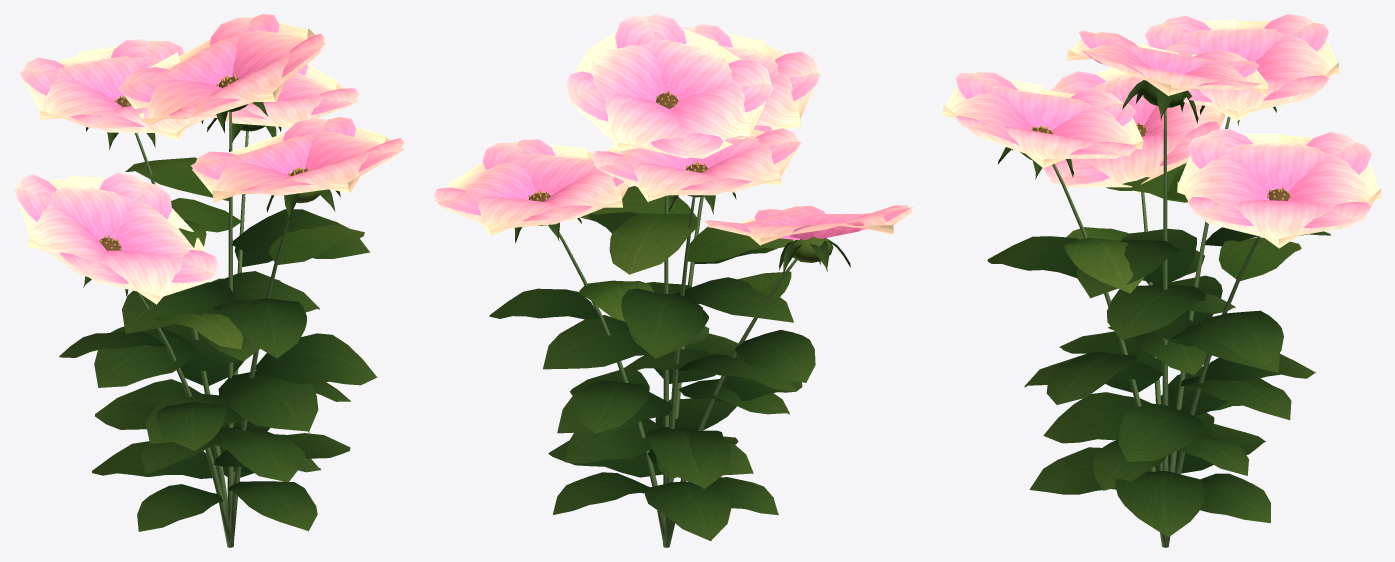
The model's file is poppy-dream-10-lod.glb.
The picture shows the model from 3 angles, left to right: view 1: azimuth 30°, elevation 25°; view 2: azimuth 150°, elevation 25°; view 3: azimuth 270°, elevation 25°; orthographic projection. The views are drawn at different scales.
Visible parts, largest first — view 1: poppy_dream_stage_10_poppy_petal.021, poppy_dream_stage_10_leaf_veins.021, poppy_dream_stage_10_young_leaf.021, poppy_dream_stage_10_stem_fibres.021; view 2: poppy_dream_stage_10_poppy_petal.021, poppy_dream_stage_10_leaf_veins.021, poppy_dream_stage_10_young_leaf.021, poppy_dream_stage_10_stem_fibres.021; view 3: poppy_dream_stage_10_poppy_petal.021, poppy_dream_stage_10_leaf_veins.021, poppy_dream_stage_10_young_leaf.021, poppy_dream_stage_10_stem_fibres.021.
Boxes of the visible parts, x1=… form: poppy_dream_stage_10_poppy_petal.021: x1=14, y1=14, x2=404, y2=304; poppy_dream_stage_10_leaf_veins.021: x1=59, y1=102, x2=377, y2=531; poppy_dream_stage_10_young_leaf.021: x1=125, y1=104, x2=364, y2=349; poppy_dream_stage_10_stem_fibres.021: x1=134, y1=111, x2=292, y2=547; poppy_dream_stage_10_poppy_petal.021: x1=433, y1=14, x2=912, y2=245; poppy_dream_stage_10_leaf_veins.021: x1=489, y1=192, x2=850, y2=540; poppy_dream_stage_10_young_leaf.021: x1=538, y1=186, x2=833, y2=321; poppy_dream_stage_10_stem_fibres.021: x1=559, y1=195, x2=797, y2=547; poppy_dream_stage_10_poppy_petal.021: x1=942, y1=14, x2=1380, y2=248; poppy_dream_stage_10_leaf_veins.021: x1=987, y1=80, x2=1330, y2=537; poppy_dream_stage_10_young_leaf.021: x1=1020, y1=81, x2=1301, y2=293; poppy_dream_stage_10_stem_fibres.021: x1=1052, y1=110, x2=1260, y2=547.
Bounding box in the file's own units: 0.4997 × 0.6409 × 0.492.
Materials: 6 (3 with a texture image).
